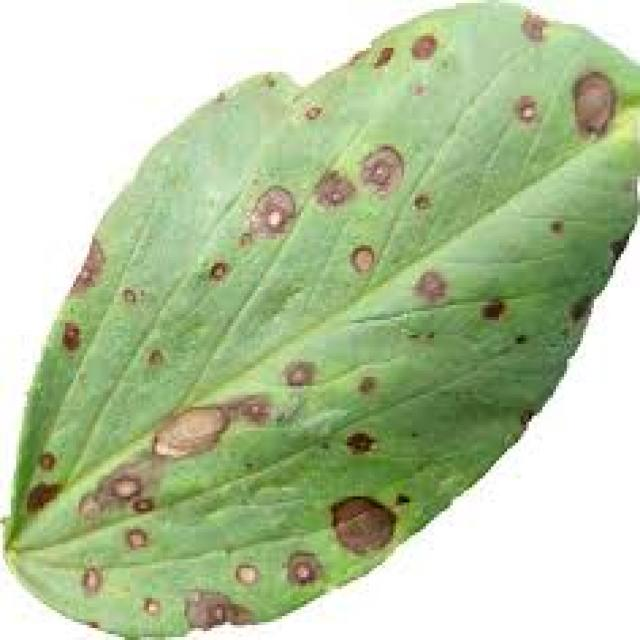bercak_daun: (18, 21, 630, 631)
